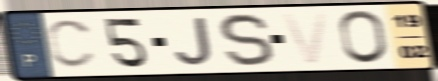5: (102, 17, 151, 70)
C: (44, 17, 98, 72)
J: (173, 15, 216, 68)
O: (336, 9, 391, 67)
S: (216, 11, 277, 70)
V: (277, 10, 332, 67)
